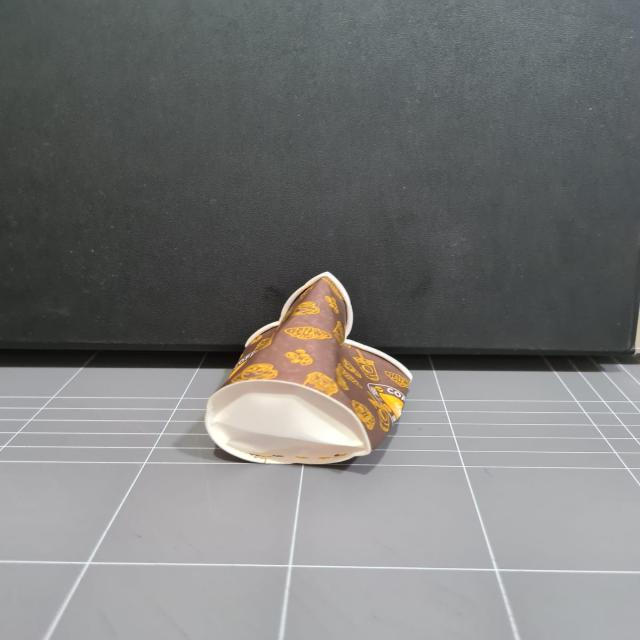cups: (171, 256, 435, 474)
